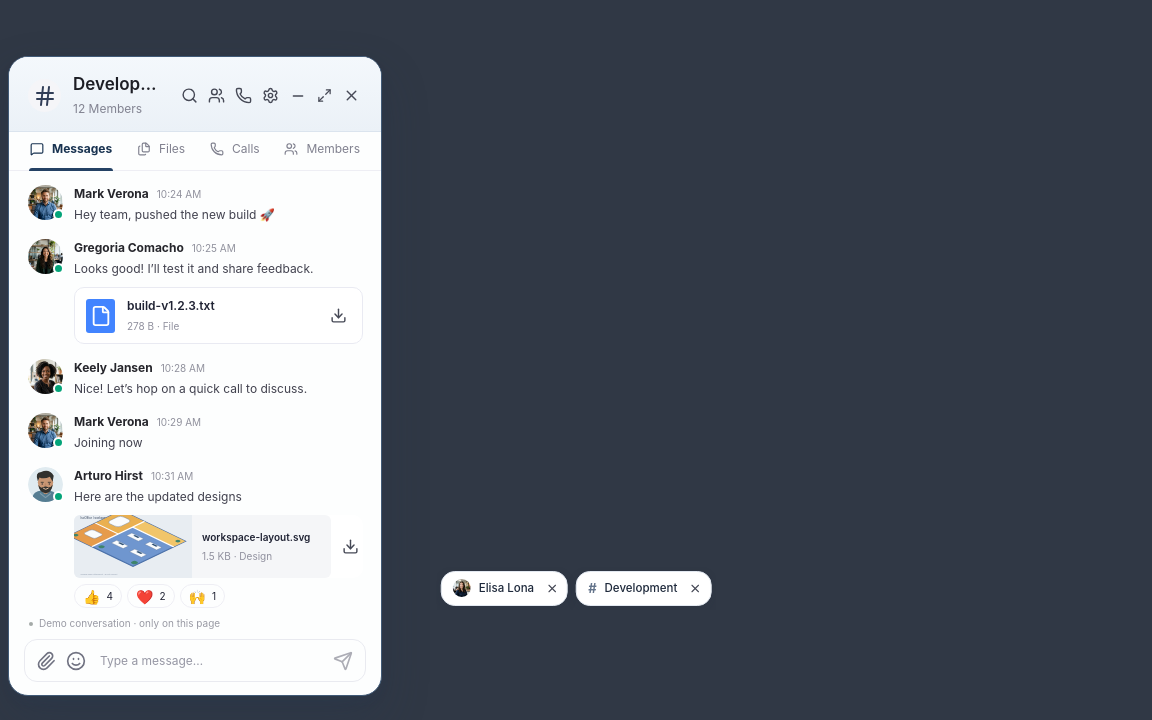
it: a narrow screen shows only the focused conversation and can switch via the dock
Expected: the dialog named "Development channel" is shown, [8,56,382,696]
Click the button titled "Restore Elisa Lona": (491, 588) [442,572,540,604]
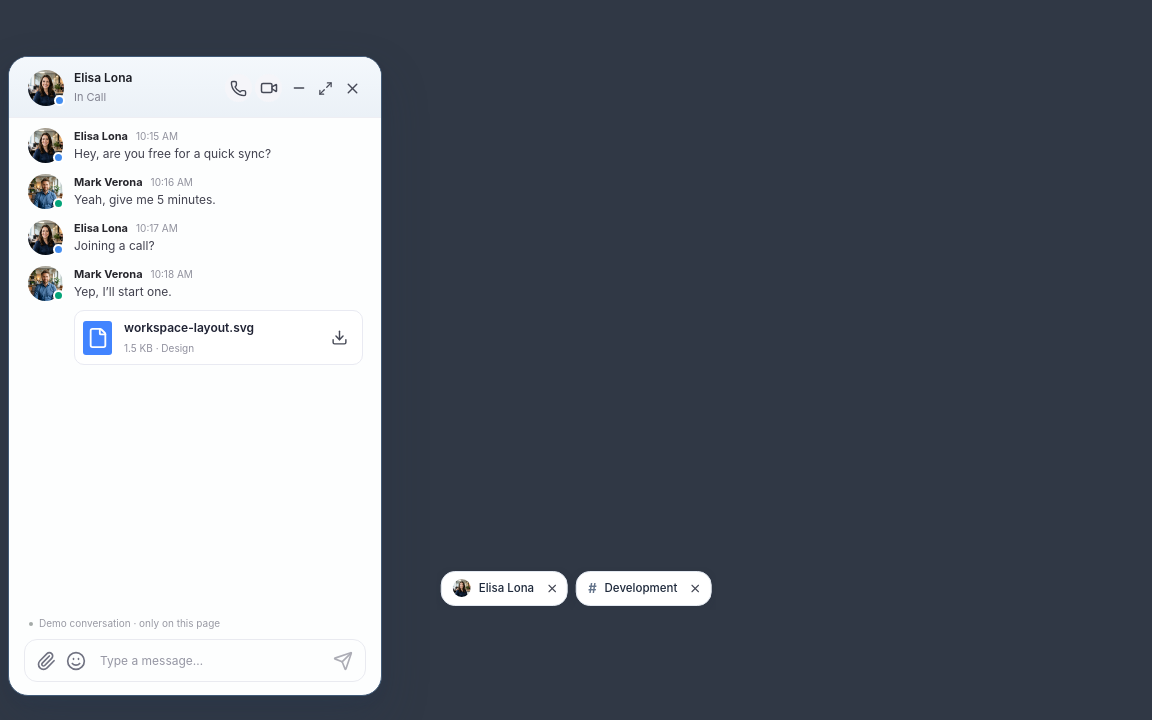
Result: the dialog named "Elisa Lona direct message" is shown at [8,56,382,696]
